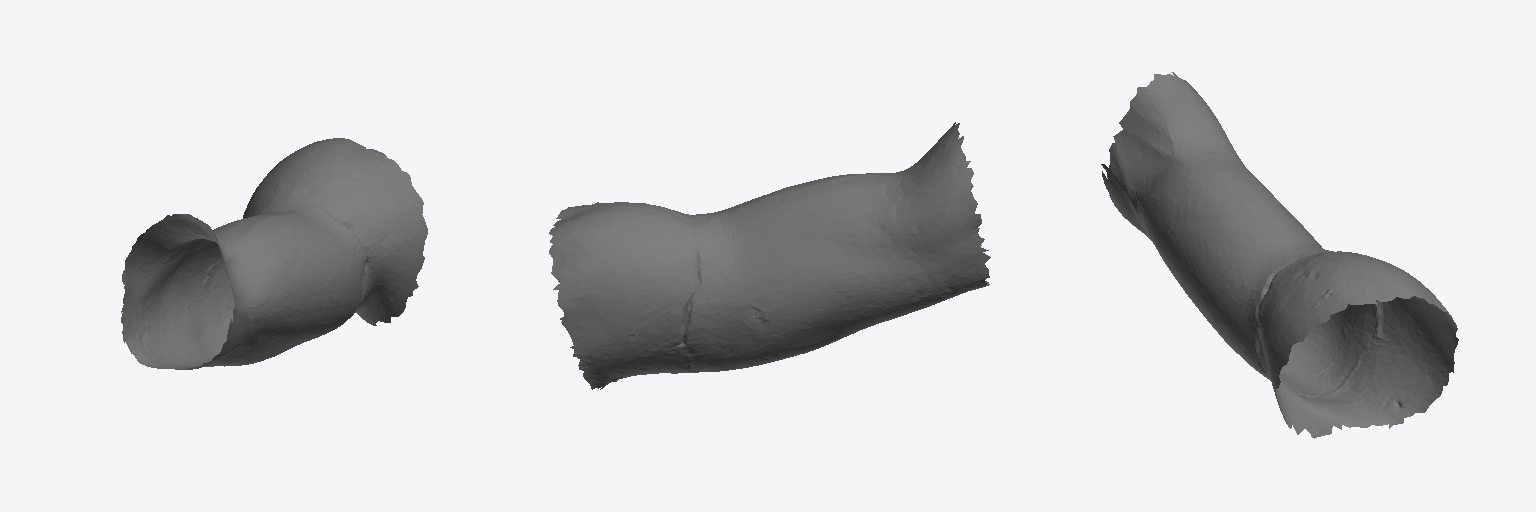
Rendered from PbrazoR.obj.
3 renders of one model, left to right at view 1: azimuth 30°, elevation 25°; view 2: azimuth 150°, elevation 25°; view 3: azimuth 270°, elevation 25°, orthographic.
Visible parts, largest first — view 1: brazoR; view 2: brazoR; view 3: brazoR.
Part boxes in pixels (x1,y1,x2,y2): brazoR: (121,138,427,369); brazoR: (549,122,990,389); brazoR: (1101,72,1458,438).
Size of the model in its own units: 2.39 by 1.52 by 2.07.